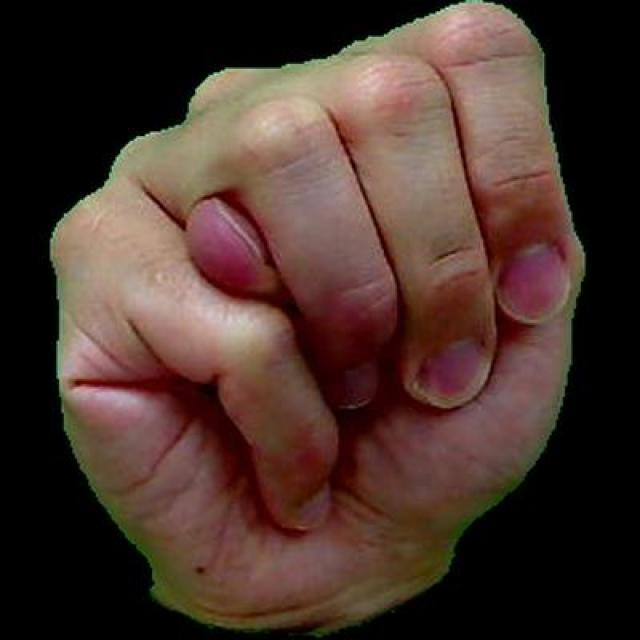m: (22, 0, 589, 637)
